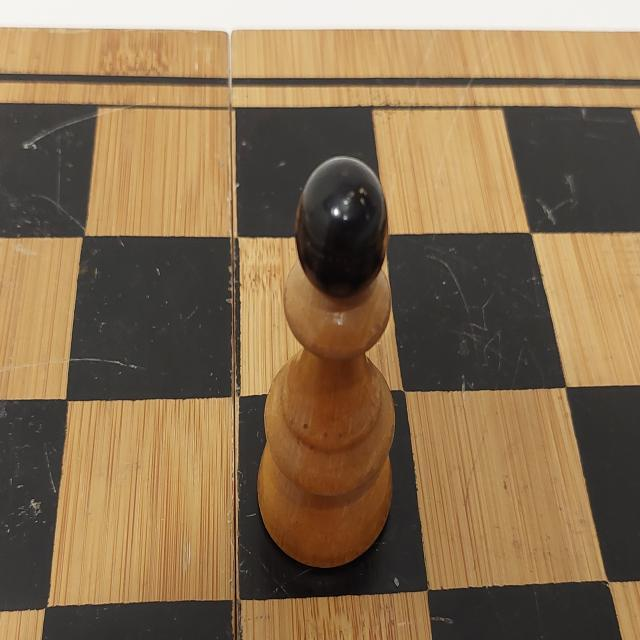white-bishop: (252, 156, 397, 570)
